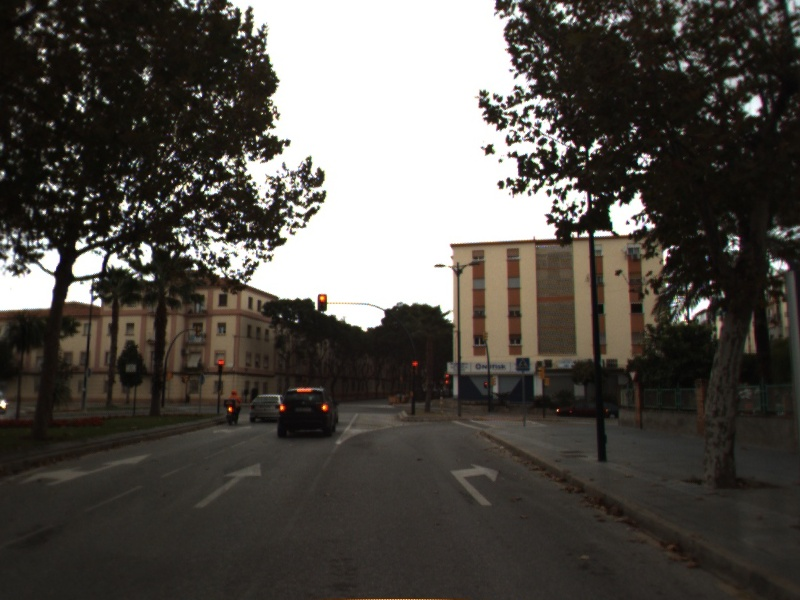RIGHT: (447, 460, 502, 508)
STRAIGHT: (190, 460, 264, 511)
STRAIGHT_LEFT: (15, 450, 155, 488)
